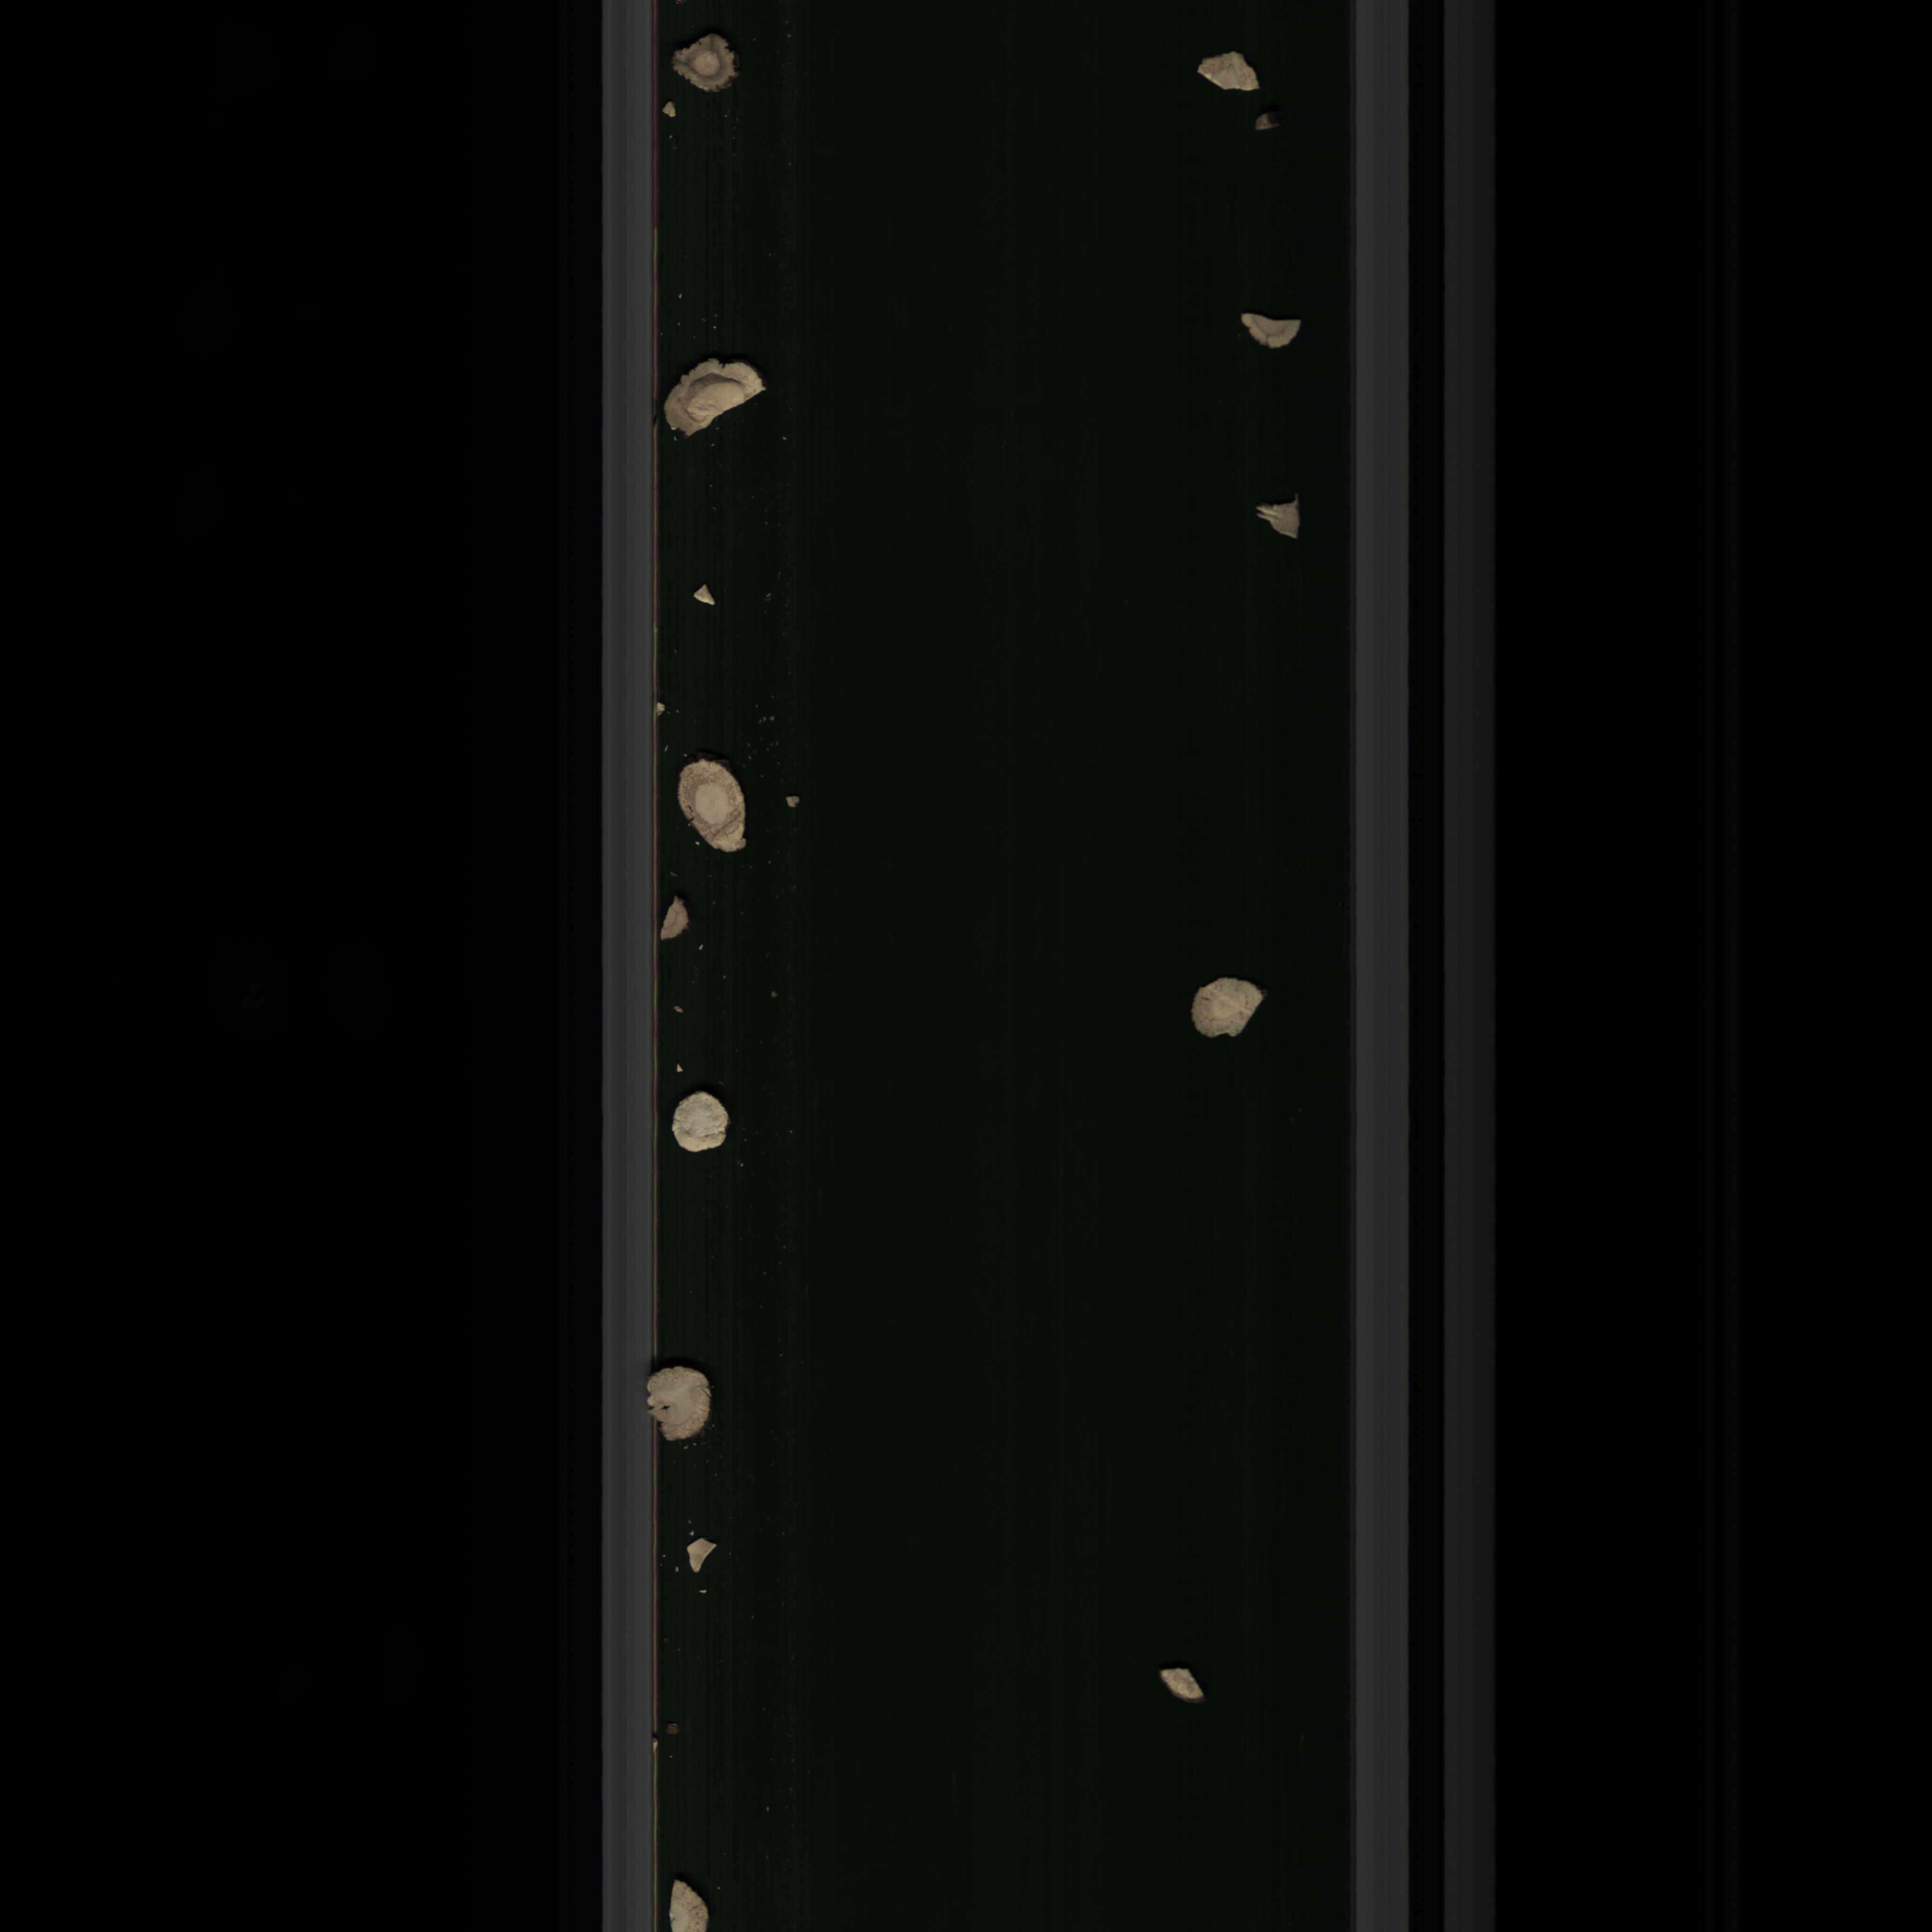debris: (663, 354, 777, 444), (640, 1366, 729, 1444), (1196, 50, 1270, 99), (1235, 310, 1315, 352), (1260, 494, 1318, 550), (663, 1877, 720, 1932), (1152, 1665, 1212, 1707), (683, 1534, 729, 1571), (660, 892, 690, 943)
distortion: (672, 757, 757, 858)
moldy: (671, 32, 745, 92)
